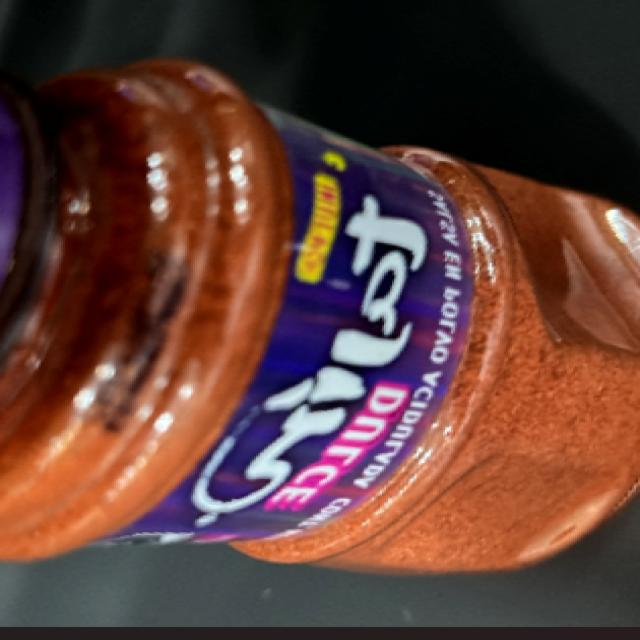tajinDulce: (6, 83, 626, 566)
